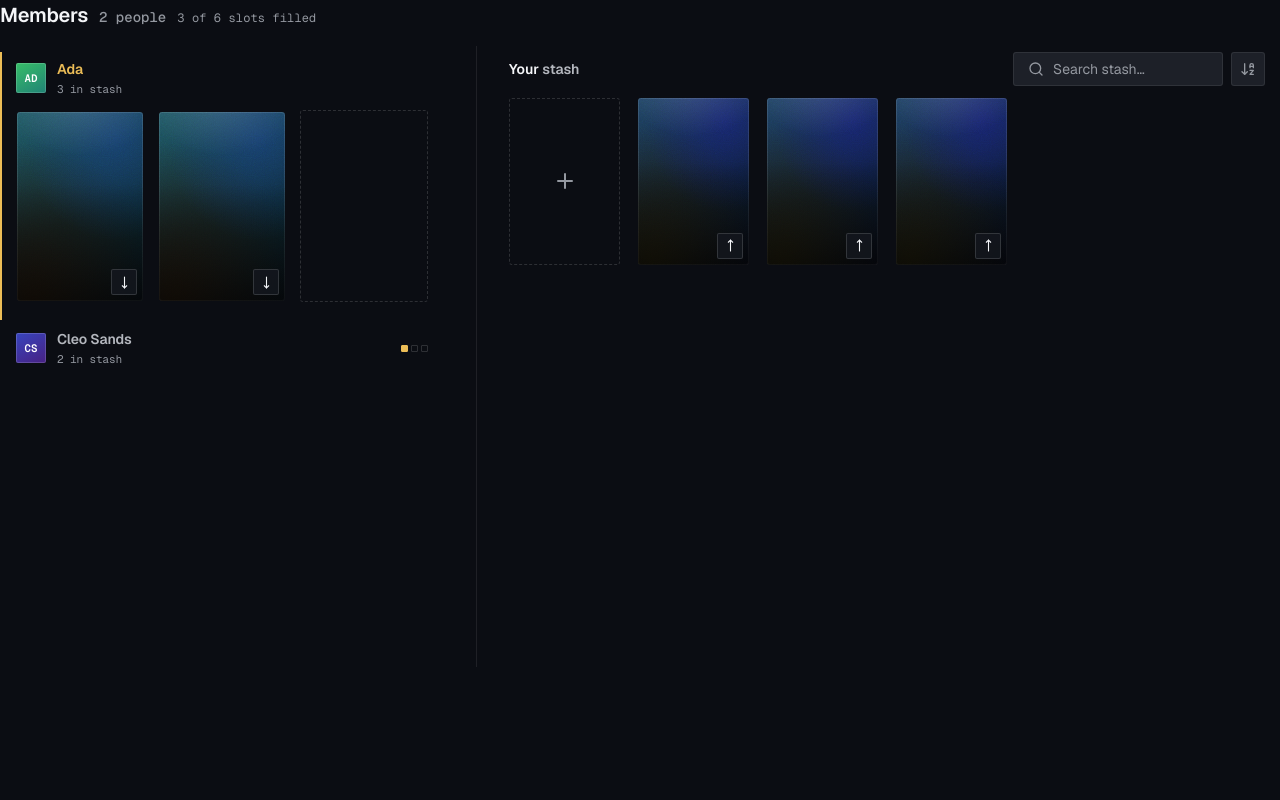
Scenario: opening a movie's record › goes from a movie to whoever added it, closing the record onto their board
This screenshot has width=1280, height=800.
Click the 1st button with class "mem-open".
click(694, 181)  # box [638, 98, 749, 264]
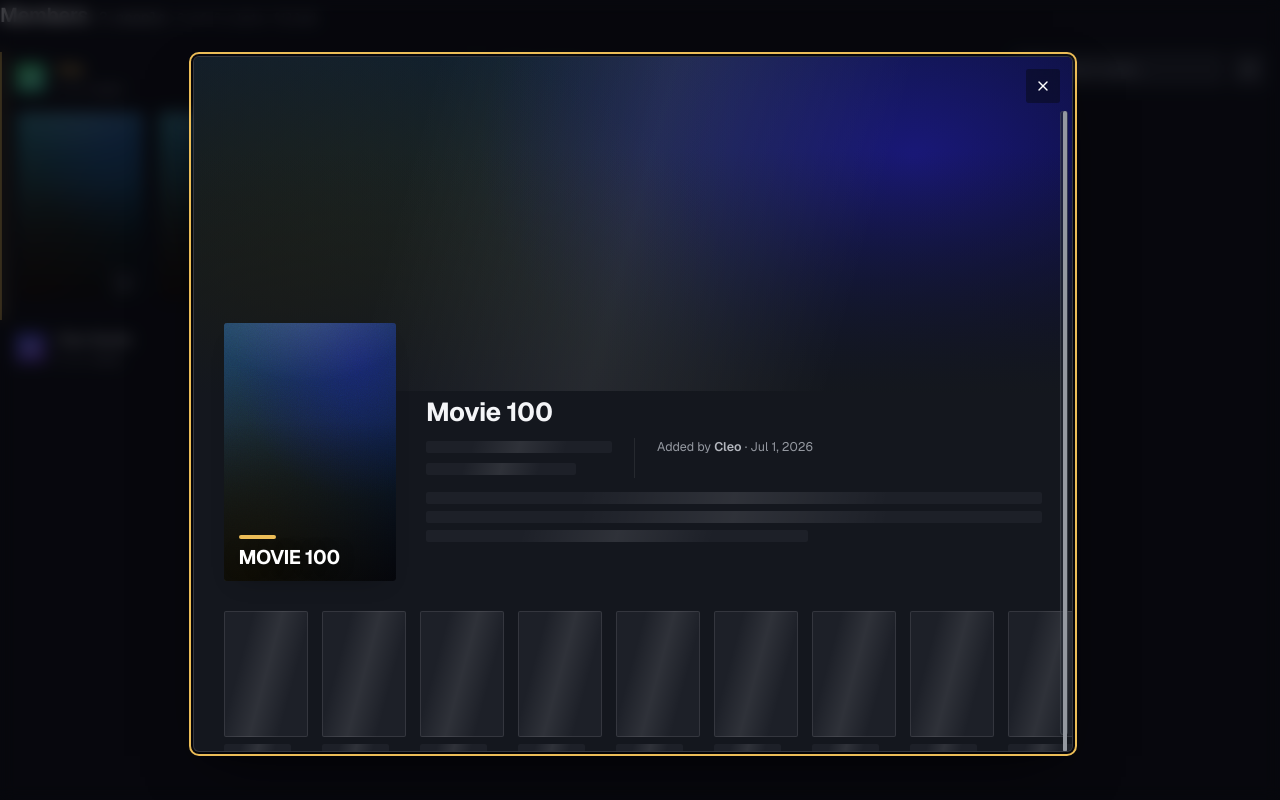
Result: the dialog is shown at [192, 56, 1072, 752]
The fixture names member 1 ("Cleo") as the adder of every movie.
Click the link "Cleo".
click(727, 446)  # box [714, 438, 741, 455]
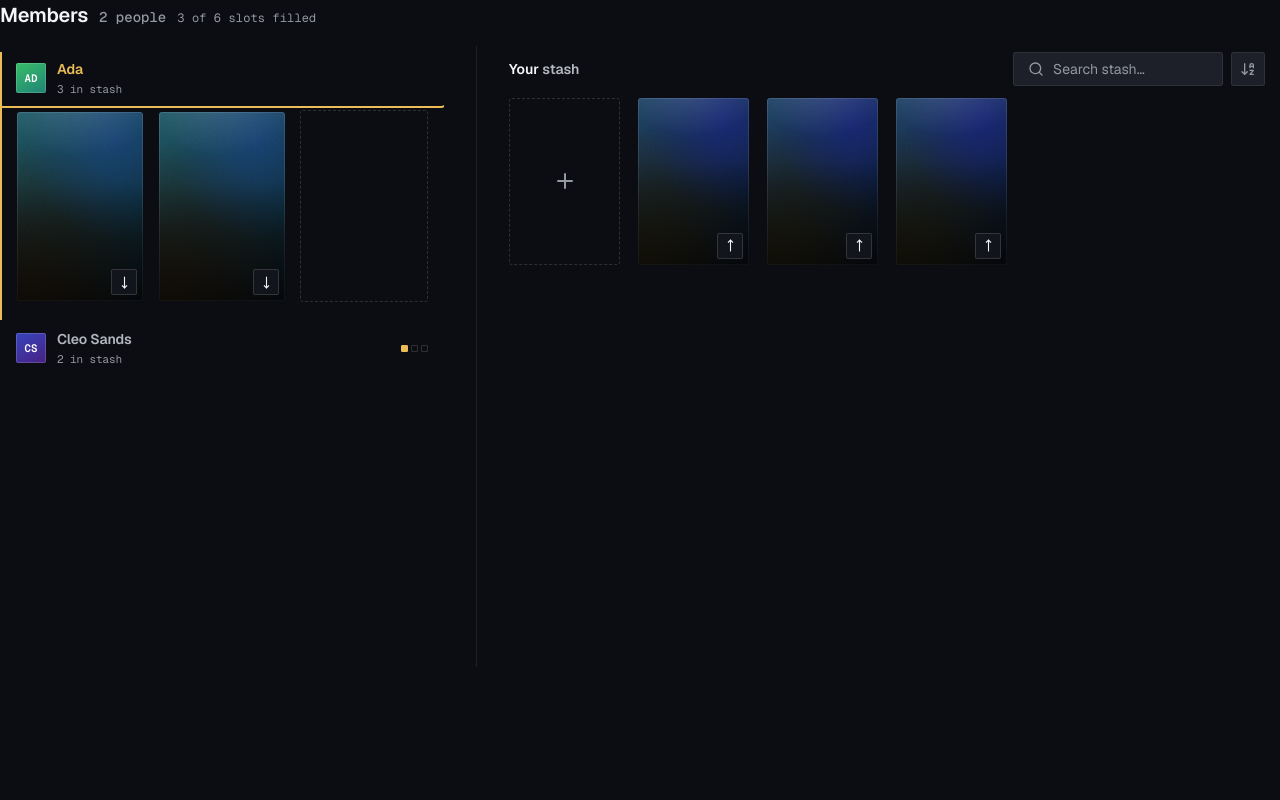
Result: the dialog is gone
